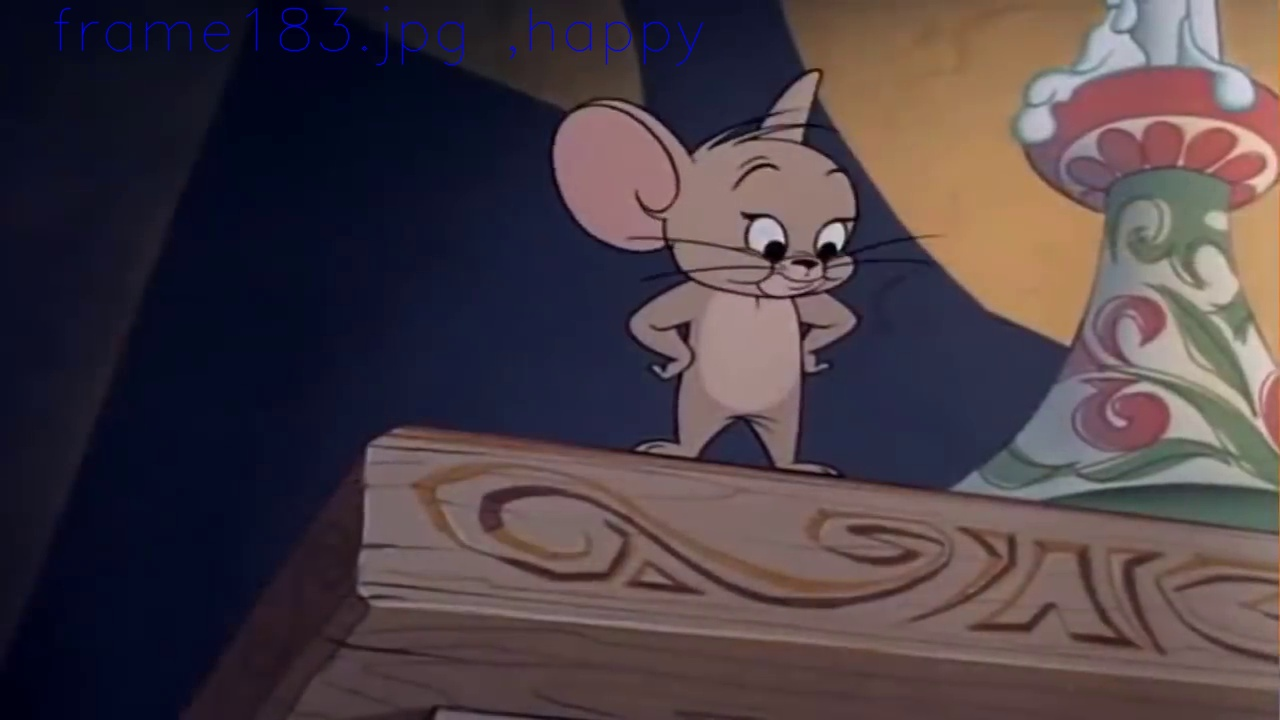happy: (737, 157, 851, 294)
